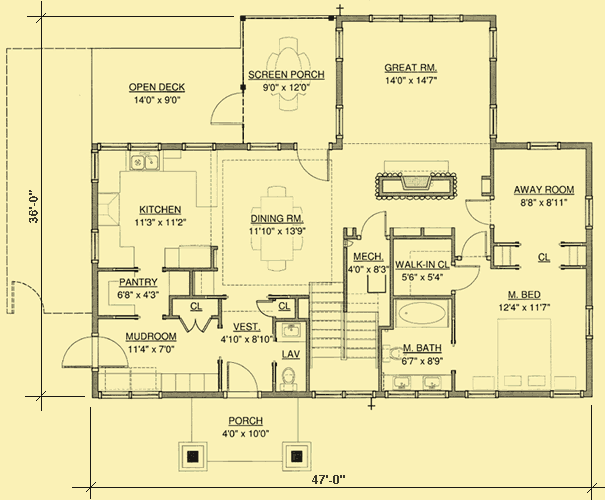bathroom has a small and large sink: (273, 320, 311, 395)
bedroom has a double bed: (453, 266, 594, 395)
kitchen has sink and kitchen counter: (91, 142, 216, 273)
there is a dining table in the hall: (215, 142, 333, 289), (238, 17, 345, 152)
this bathroom has a bathtub with small and large sink: (378, 297, 458, 394)
